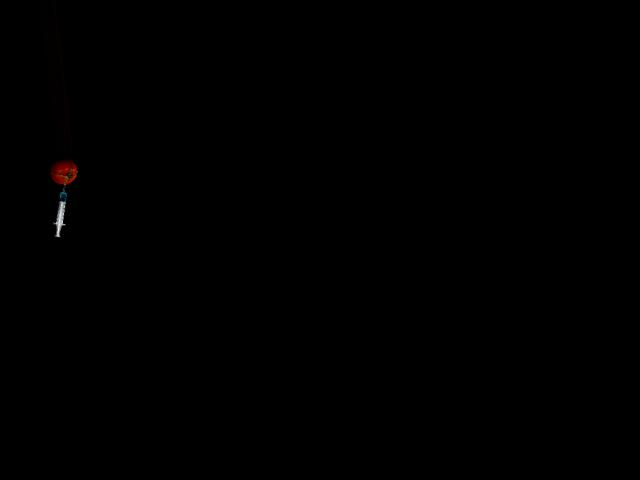tomato: (48, 157, 79, 185)
